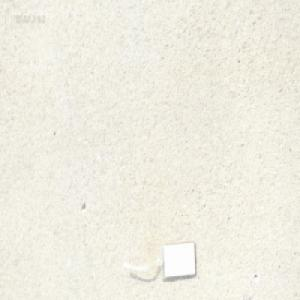LuggageTag: (118, 238, 195, 280)
